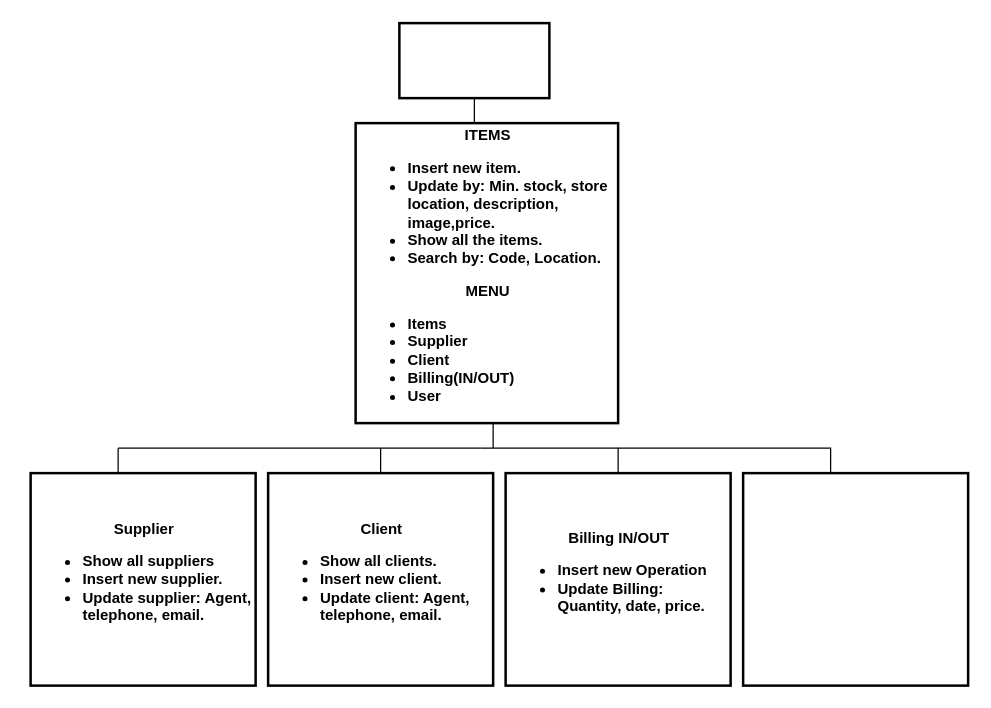
The diagram is 991 pixels wide and 708 high, and some of its shapes have lost their labels. Each missing label, with the centre of its shape:
"Login" goes at point 474,60.
"User Insert new user. Update user: email." goes at point 855,578.
